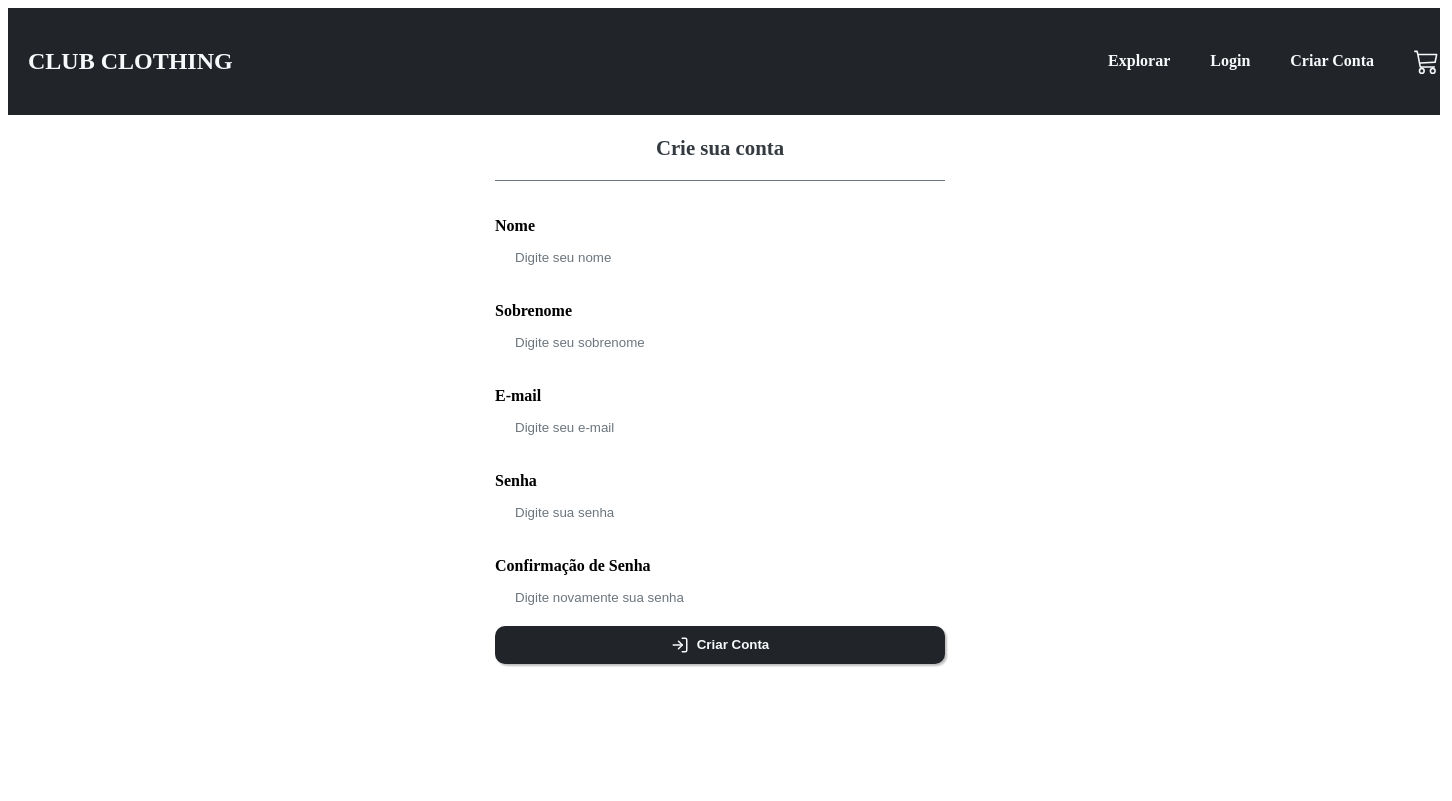
Sign Up › should show error when filling a invalid e-mail
Type "invalid_email" into the field with placeholder "Digite seu e-mail" at (740, 422), box [495,410,985,435]
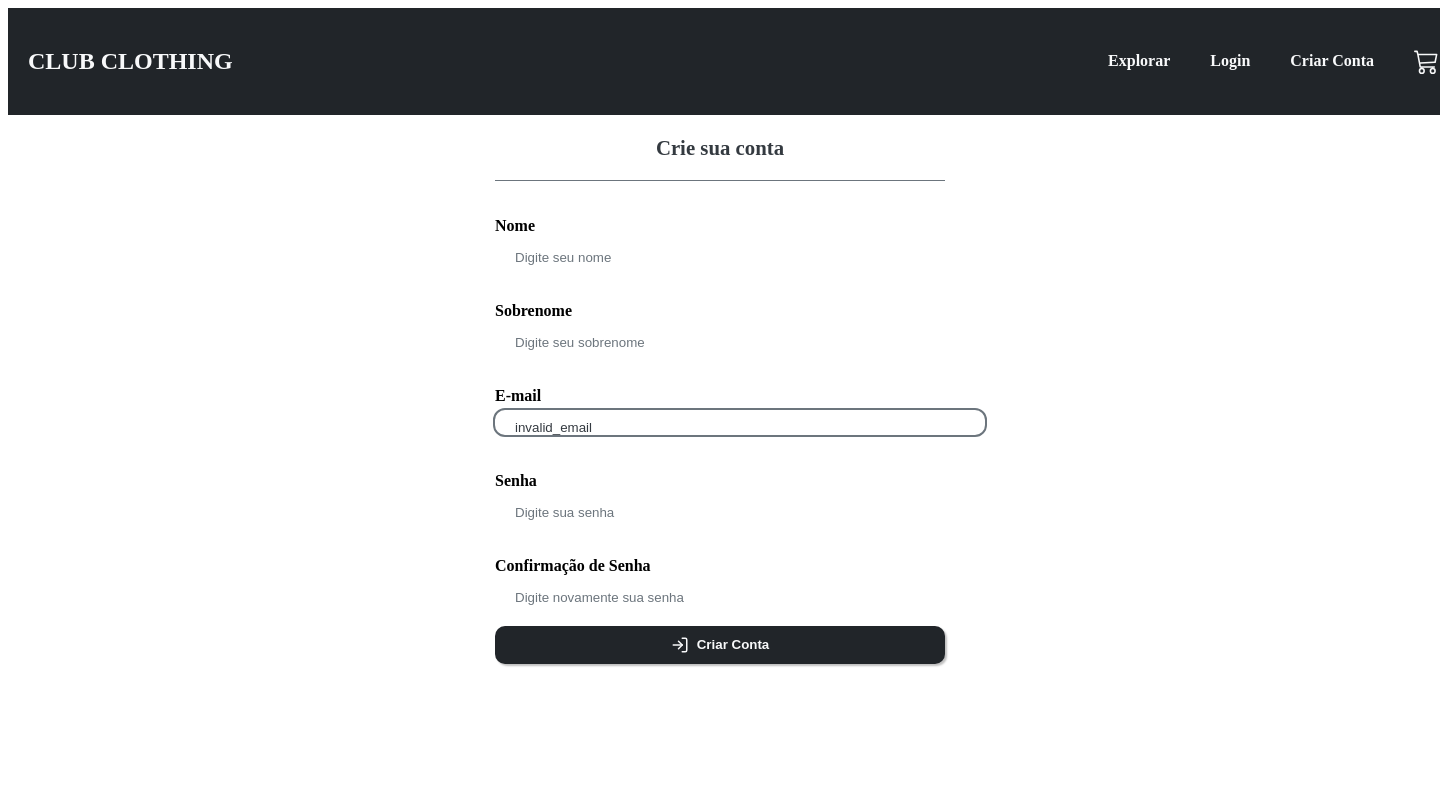
Click the button "Criar Conta" at (720, 645), box [495,626,945,664]
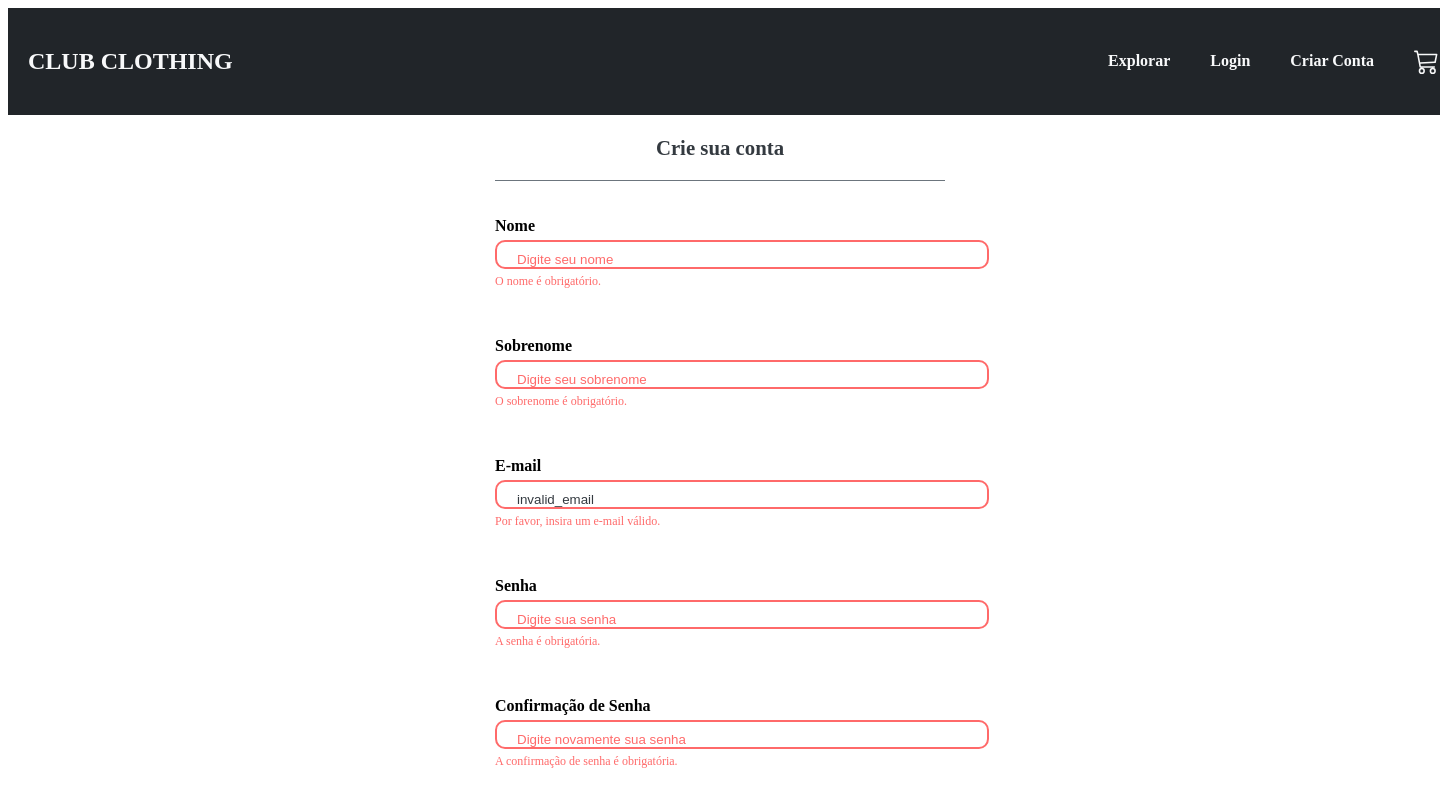
Result: the text "Por favor, insira um e-mail válido." is shown at [495,514,660,528]
